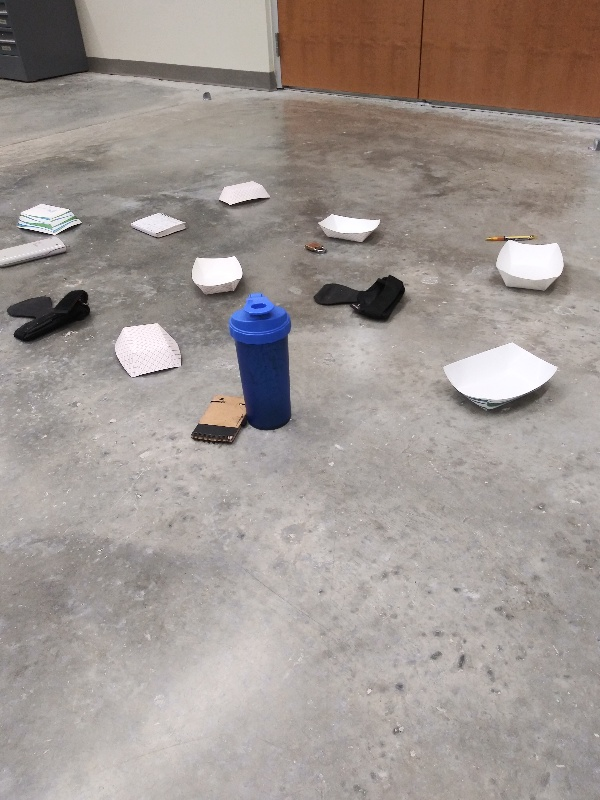plate: (436, 335, 562, 415), (106, 320, 188, 383), (489, 237, 570, 296), (9, 199, 86, 238), (311, 206, 386, 246), (189, 253, 245, 302), (214, 178, 271, 211)
